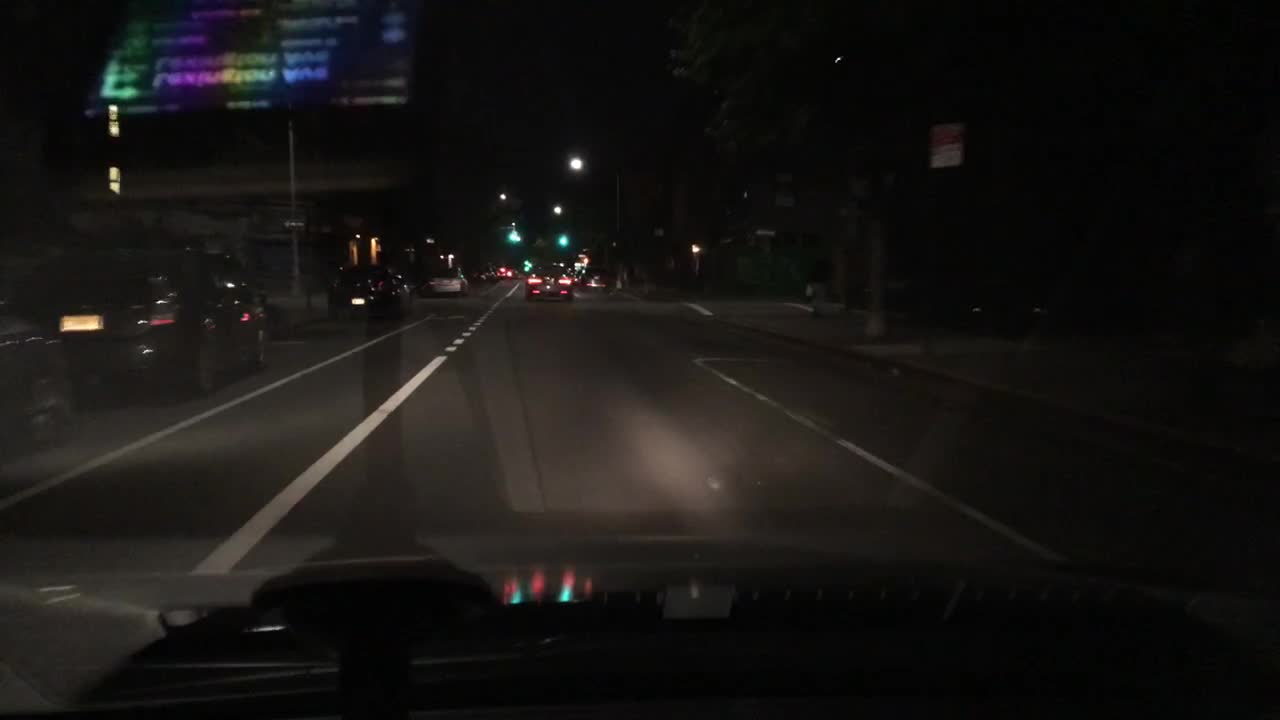car: (13, 246, 270, 400), (0, 299, 77, 454), (325, 258, 410, 327), (525, 260, 575, 305), (422, 263, 469, 300), (469, 260, 496, 285), (584, 266, 611, 290), (570, 266, 589, 285), (496, 263, 514, 280)
traffic light: (504, 221, 518, 243), (557, 226, 568, 246)
traffic sign: (928, 118, 962, 165)
